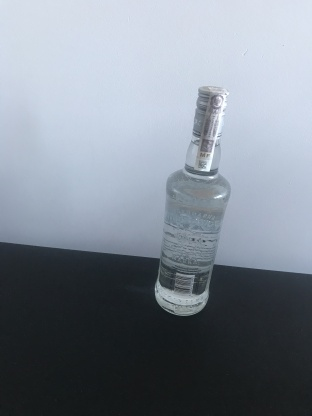nakretka: (190, 81, 231, 143)
